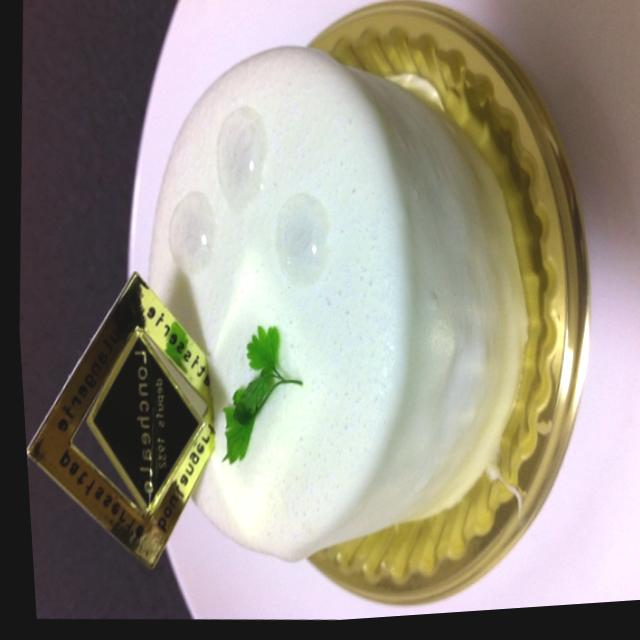蛋糕甜品: (50, 0, 640, 637)
